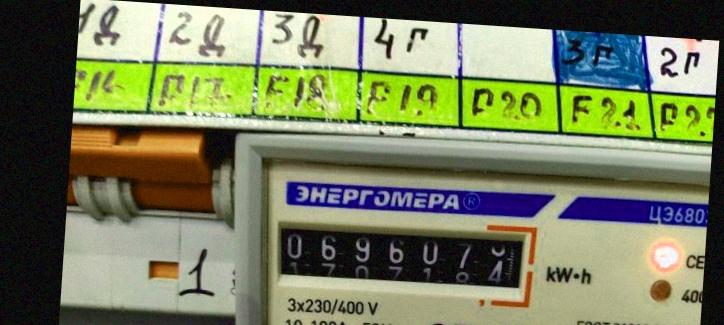0: (419, 236, 439, 267), (284, 231, 303, 260)
4: (485, 255, 504, 285)
6: (386, 235, 405, 265), (318, 232, 337, 261)
7: (453, 239, 474, 271)
9: (351, 234, 371, 263)
screen: (260, 205, 542, 308)
